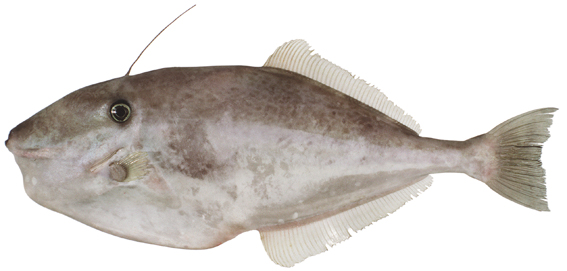fish: (7, 39, 555, 264)
